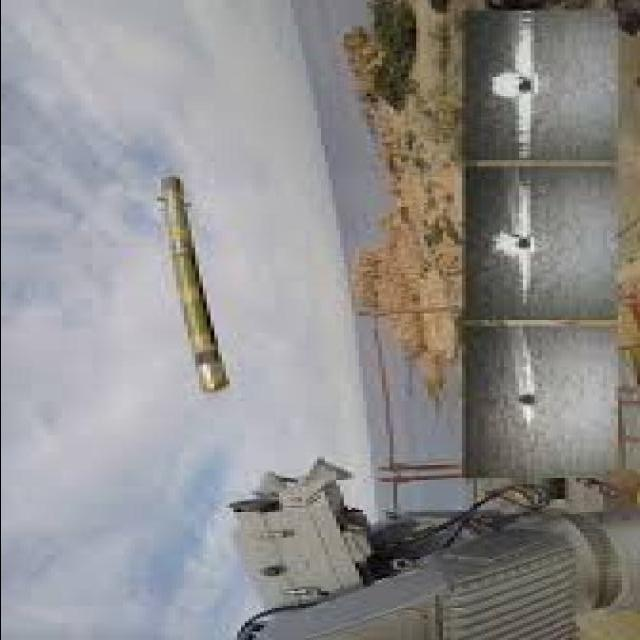Missile: (154, 163, 229, 410)
